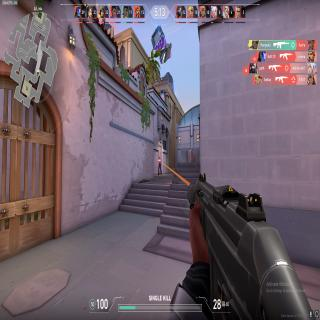ENEMY-BODY: (158, 154, 162, 177)
ENEMY-HEAD: (159, 156, 161, 160)
